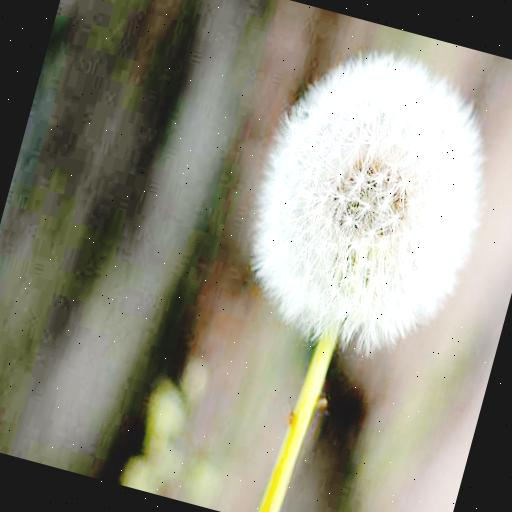dandelion: (219, 25, 512, 372)
